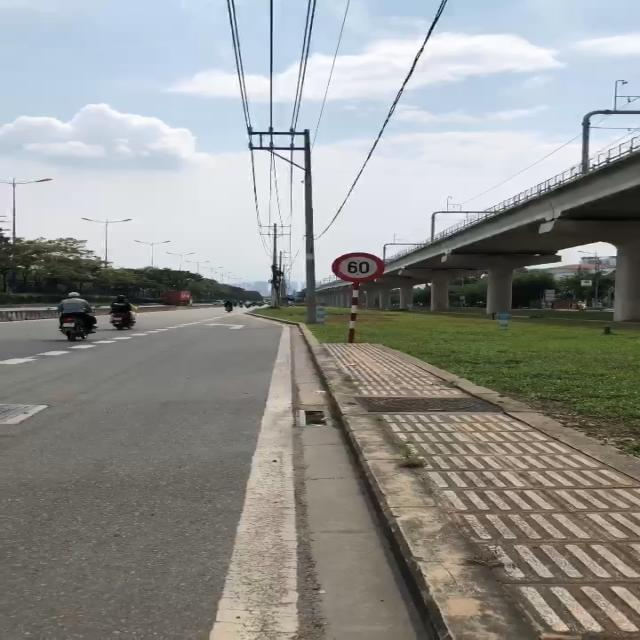Bien bao toc do toi da cho phep: (326, 250, 390, 284)
